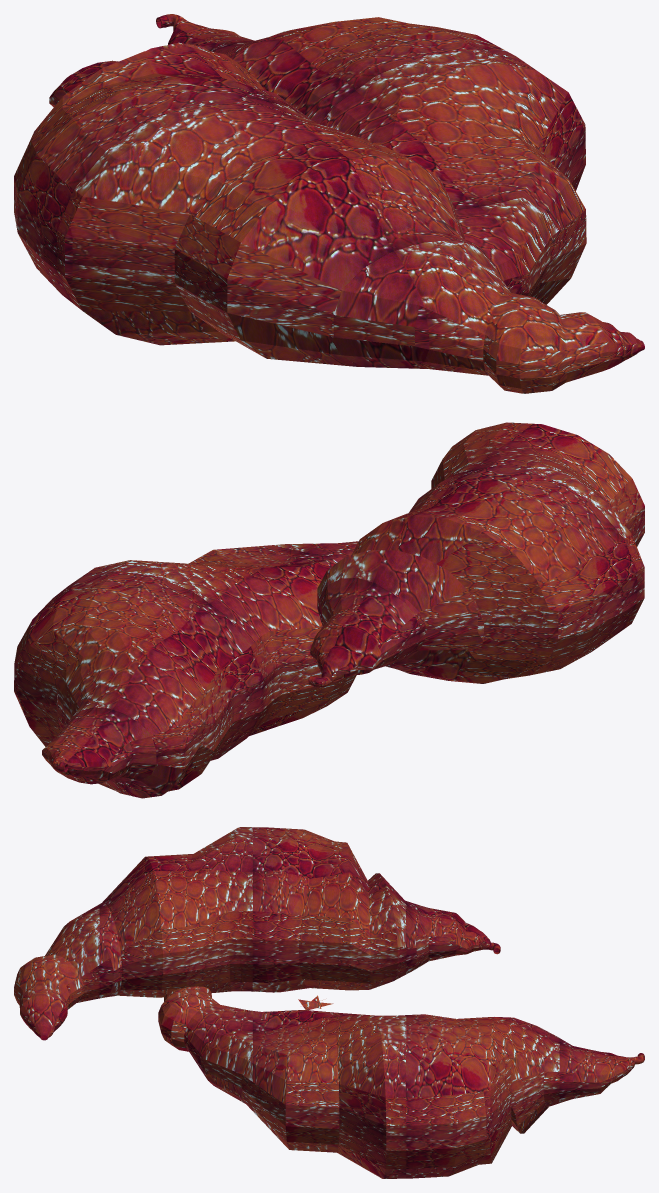
The model's file is cave2.FBX.
The picture shows the model from 3 angles, top to bottom: view 1: azimuth 30°, elevation 25°; view 2: azimuth 150°, elevation 25°; view 3: azimuth 270°, elevation 25°; orthographic projection. The views are drawn at different scales.
Parts seen in each view (by area): view 1: Cylinder002; view 2: Cylinder002; view 3: Cylinder002.
Boxes of the visible parts, left/top/right/bottom form: Cylinder002: left=14, top=14, right=644, bottom=393; Cylinder002: left=14, top=422, right=644, bottom=798; Cylinder002: left=14, top=827, right=644, bottom=1178.
Bounding box in the file's own units: 46232 × 24922 × 63989.
